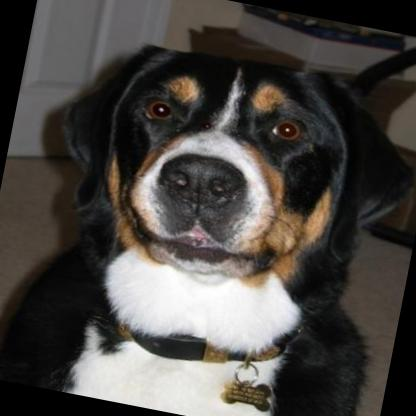Greater_Swiss_Mountain_dog: (0, 19, 416, 416)
